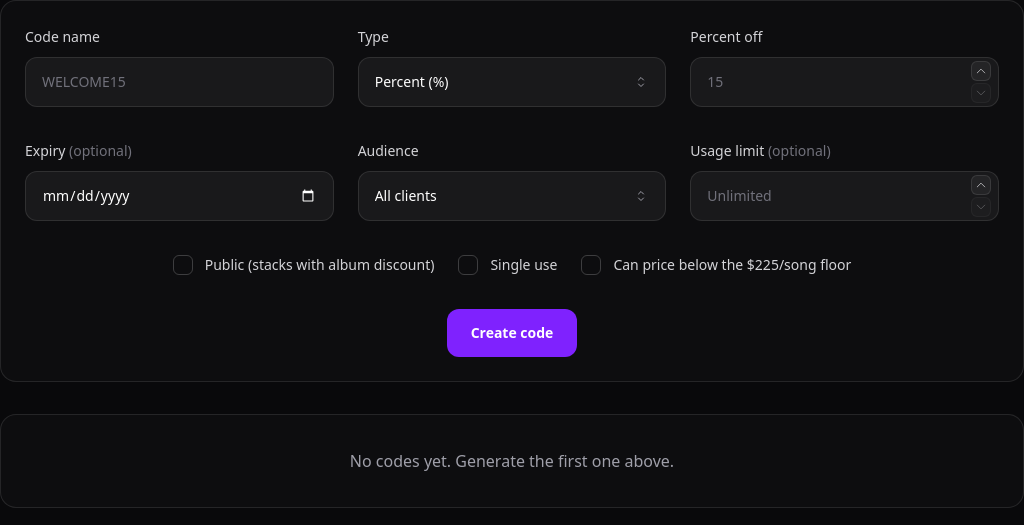
Test: DiscountCodesAdmin › creates a code and prepends it to the list
In the field labelled "Code name": (179, 82) x1=25 y1=57 x2=334 y2=107, type "summer20"
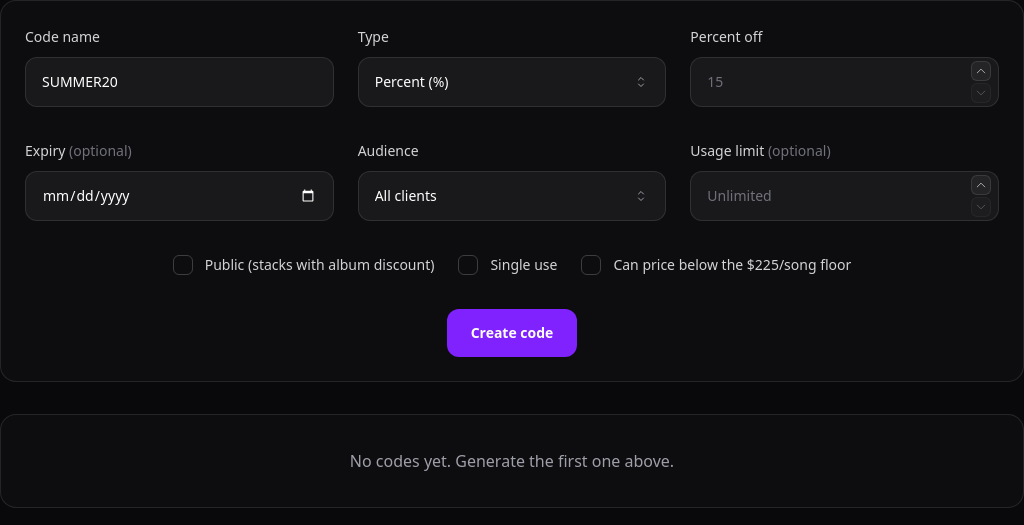
In the number field labelled "Percent off": (845, 82) x1=690 y1=57 x2=999 y2=107, type "20"
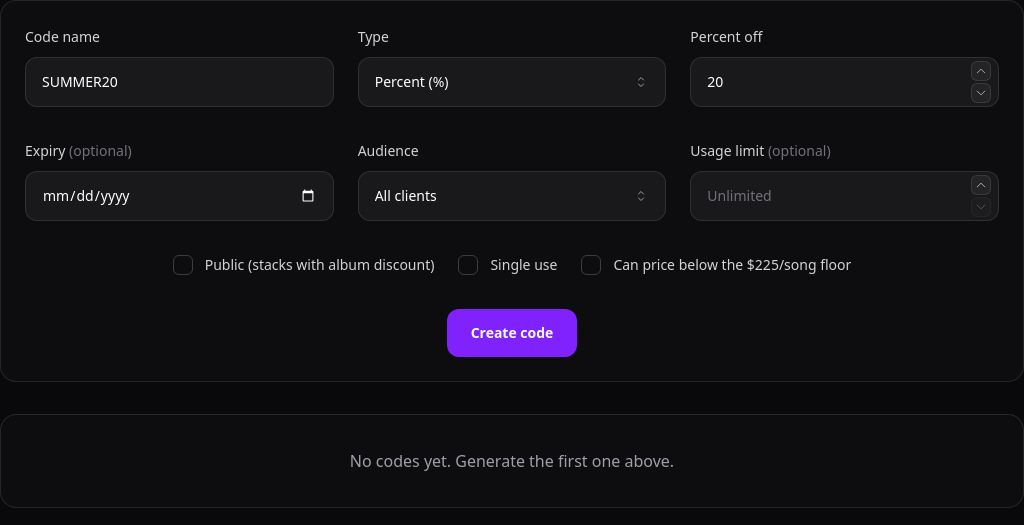
Click the button "Create code": click(512, 333) x1=447 y1=309 x2=577 y2=357
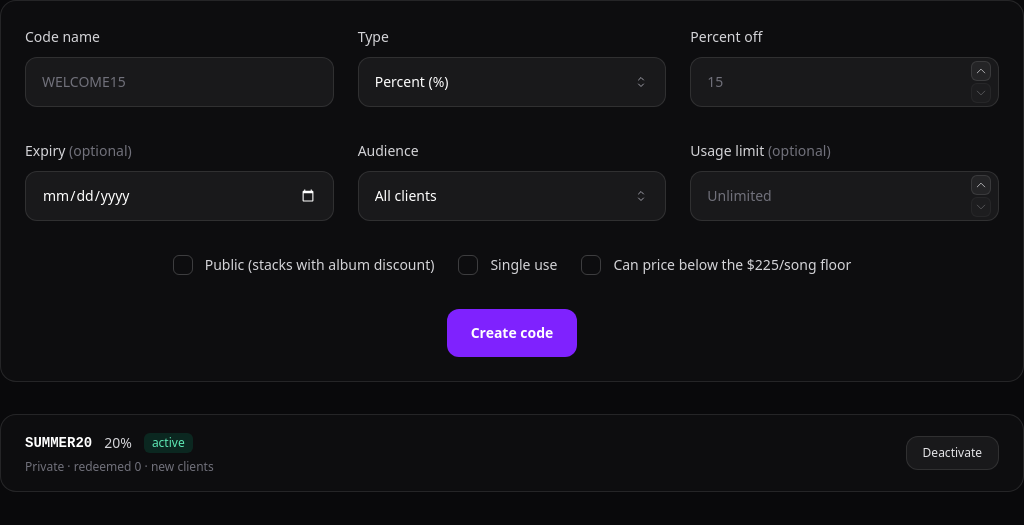
Now the text "SUMMER20" is shown, box x1=25 y1=431 x2=92 y2=455
